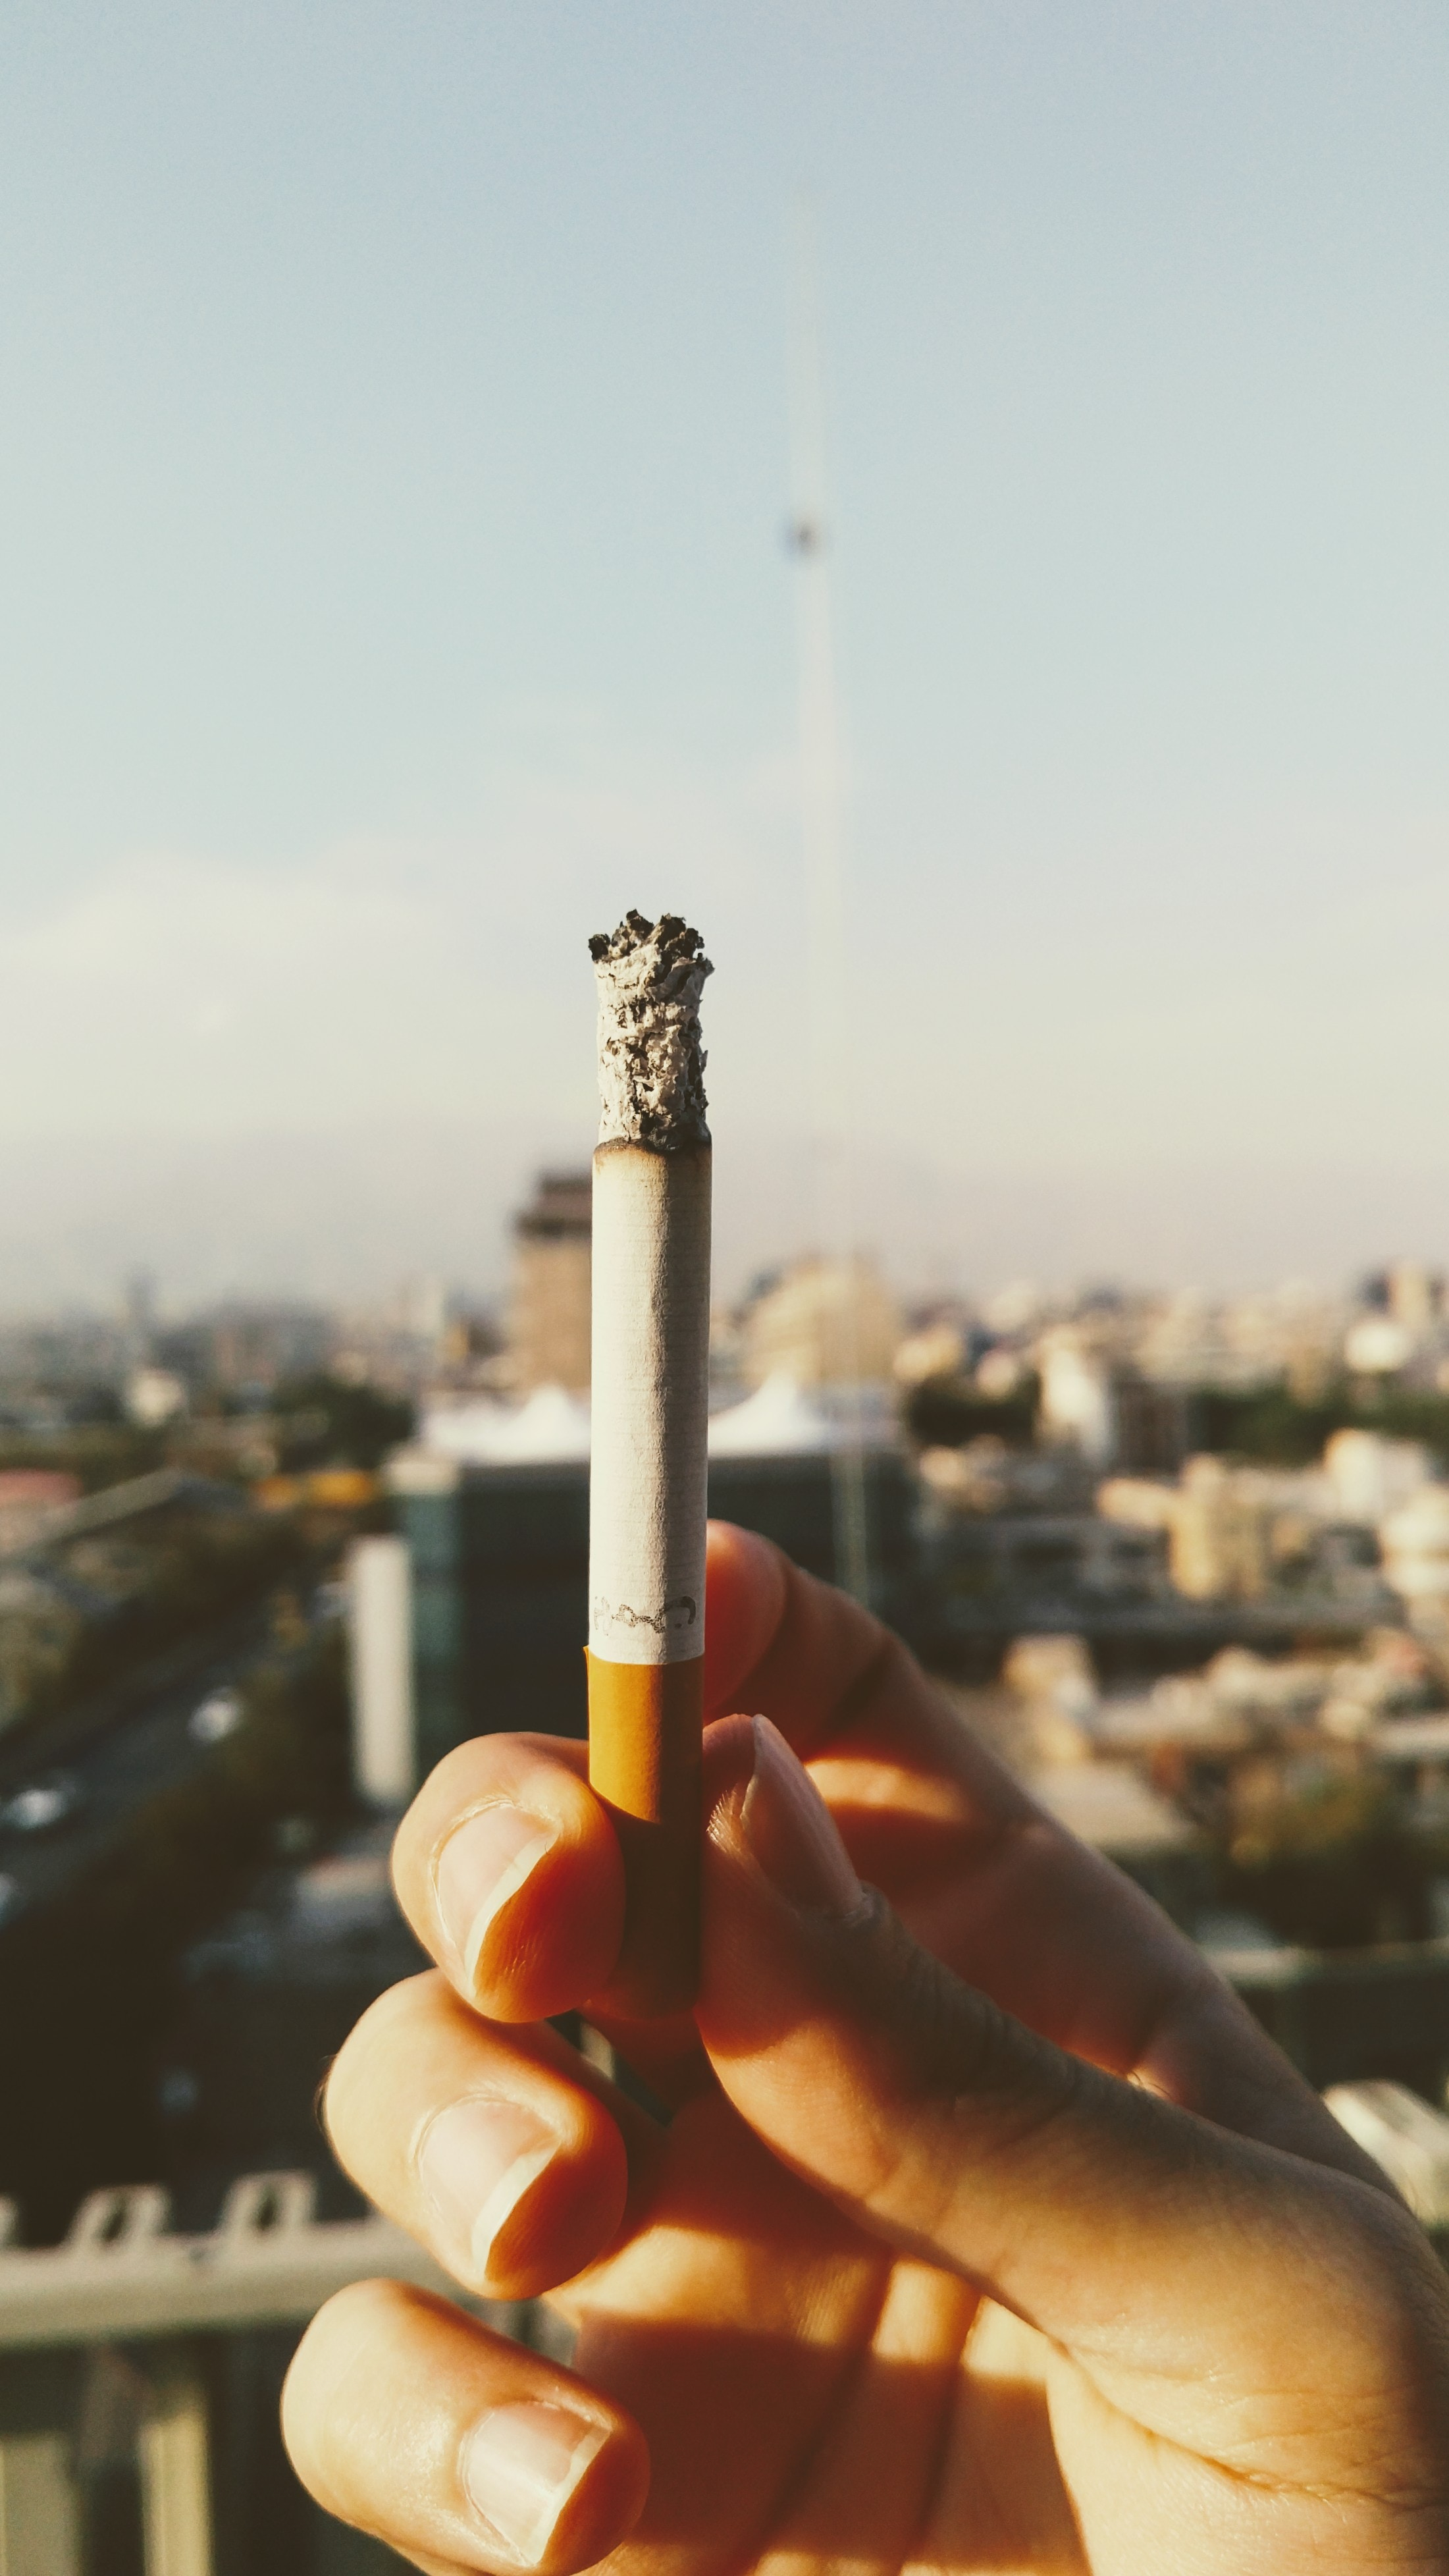cigarette: (575, 890, 718, 2058)
